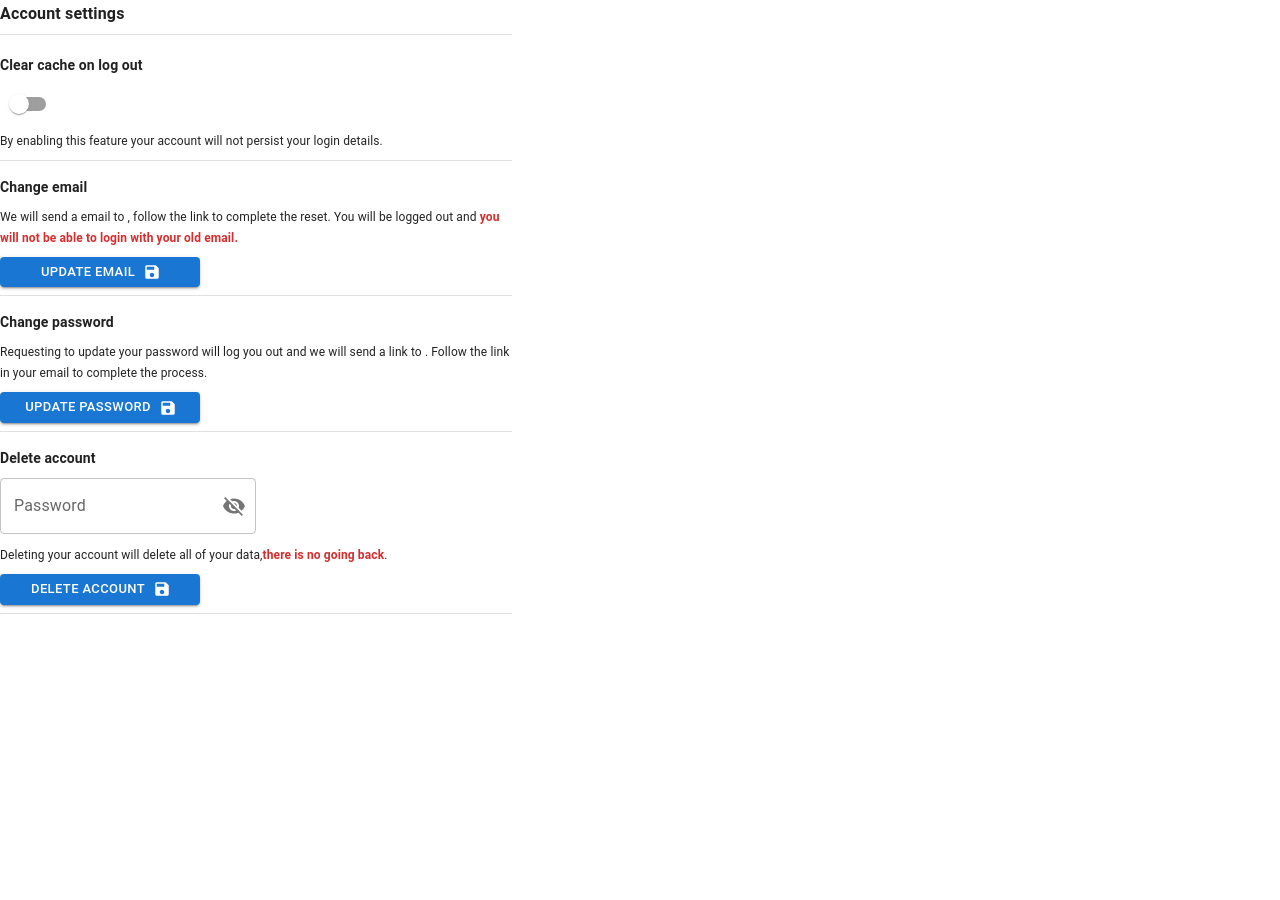
Test: Testing profile settings › Wrong password given for delete user account gives field error
Click the button "Delete account".
click(100, 589)  # box [0, 574, 200, 605]
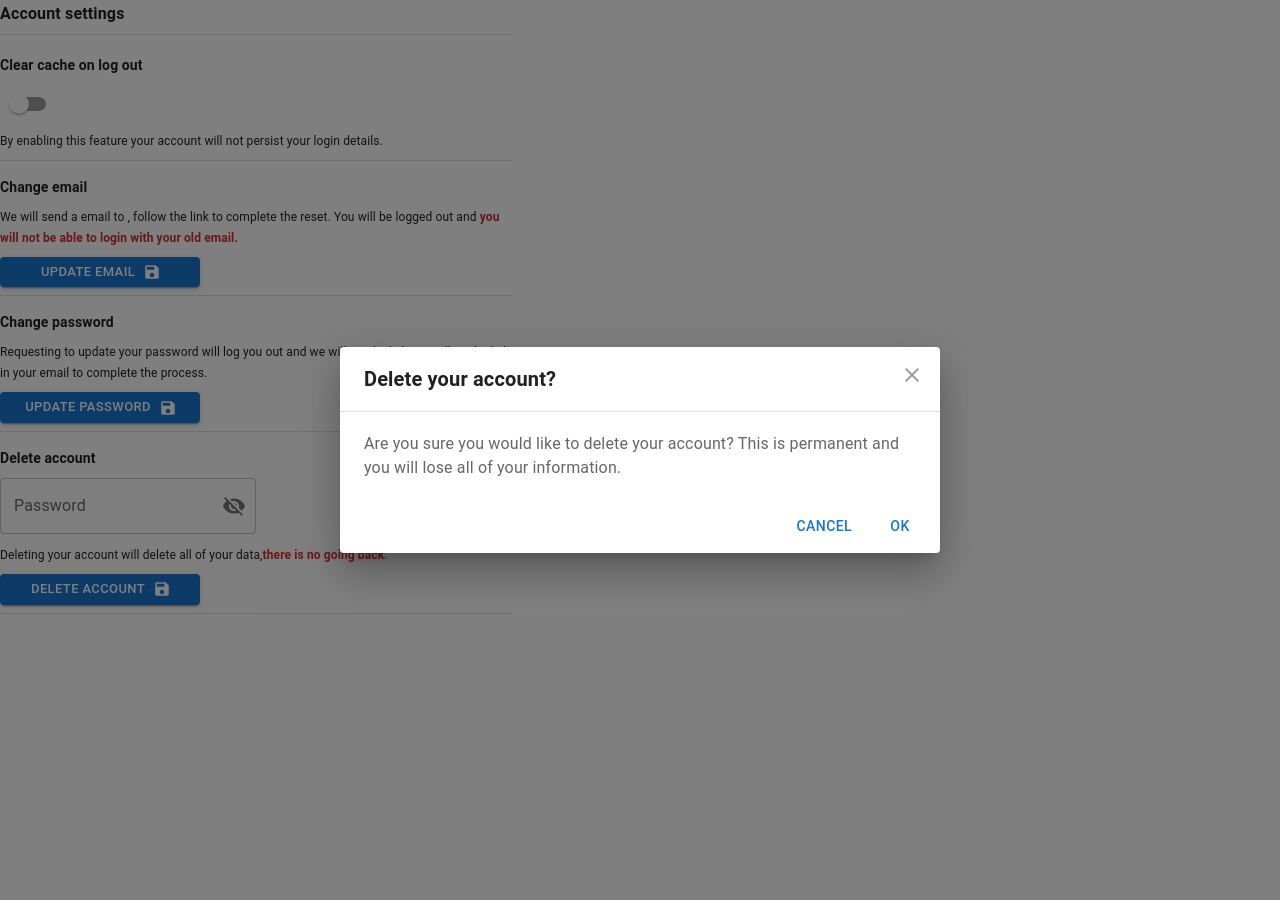
Expected: the text "Delete your account?" is shown, [364, 367, 556, 391]
Click the button "Ok".
click(900, 527)  # box [868, 508, 932, 545]
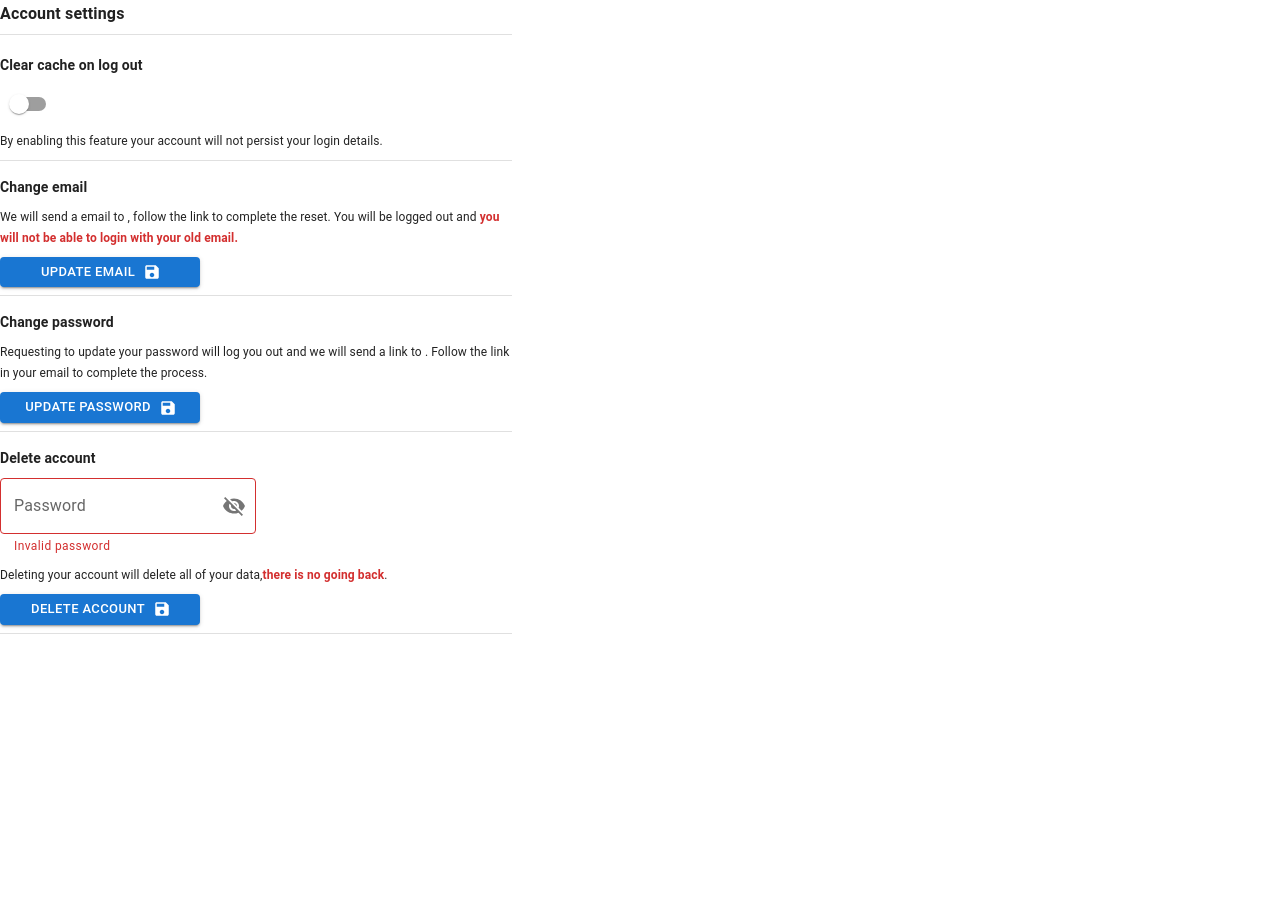
Expected: the text "Invalid password" is shown, [14, 539, 110, 553]
